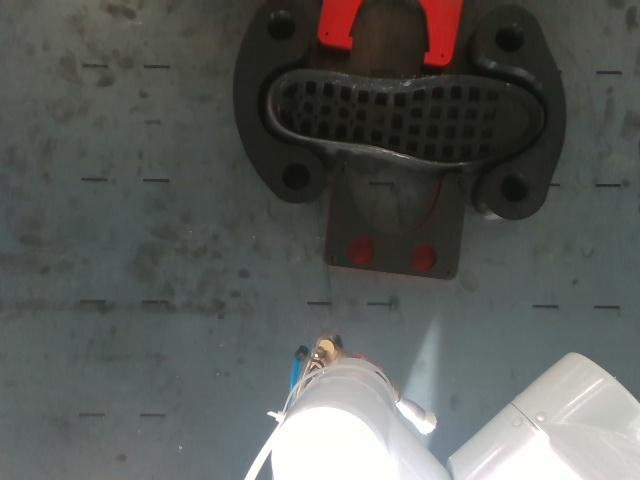shoes: (271, 70, 542, 163)
